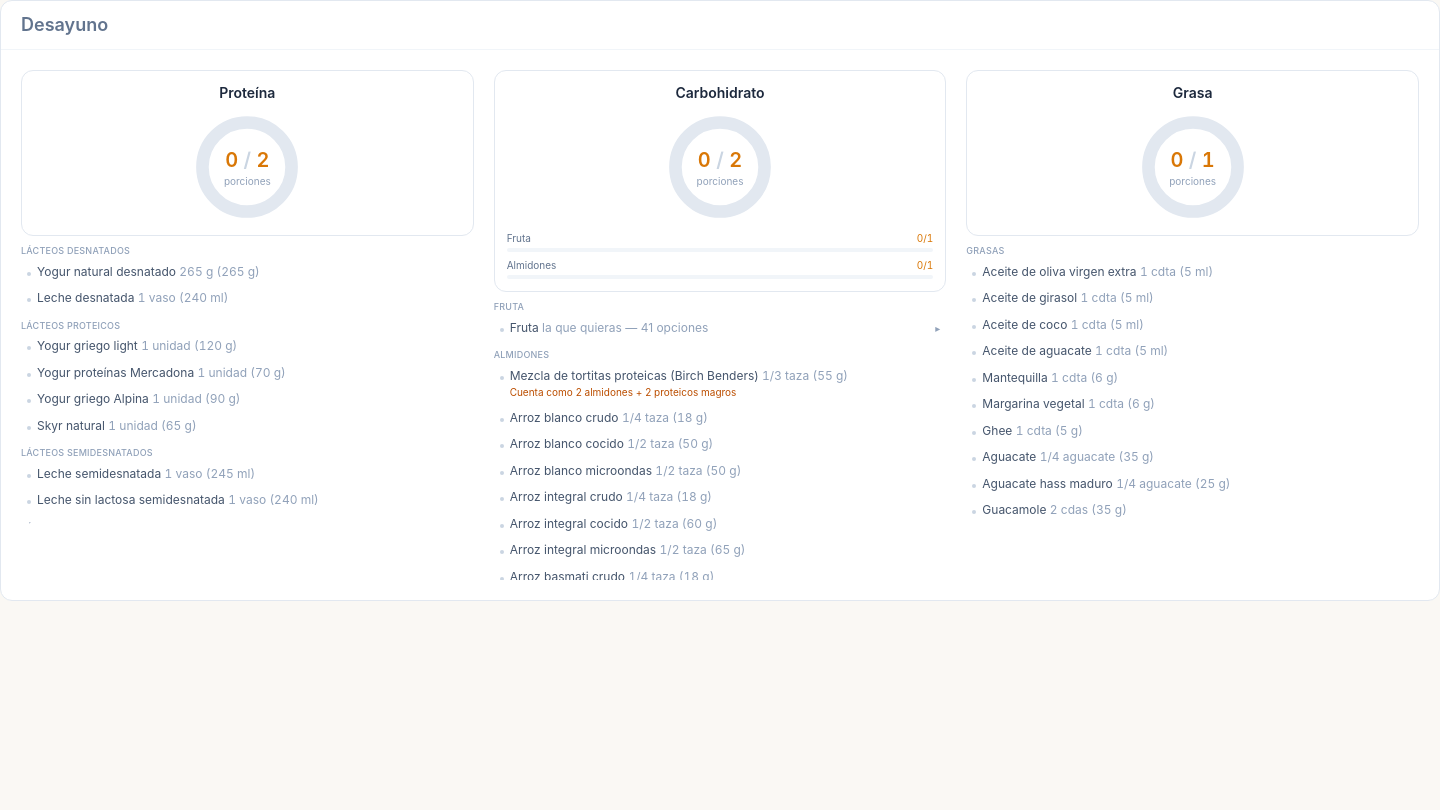
Test case: La fruta se ofrece en general › el cliente ve "Fruta" y al pulsar puede buscar cuál
Click the button "Fruta la que quieras — 41 opciones ▸" at coordinates (625, 327), box x1=494 y1=316 x2=946 y2=340
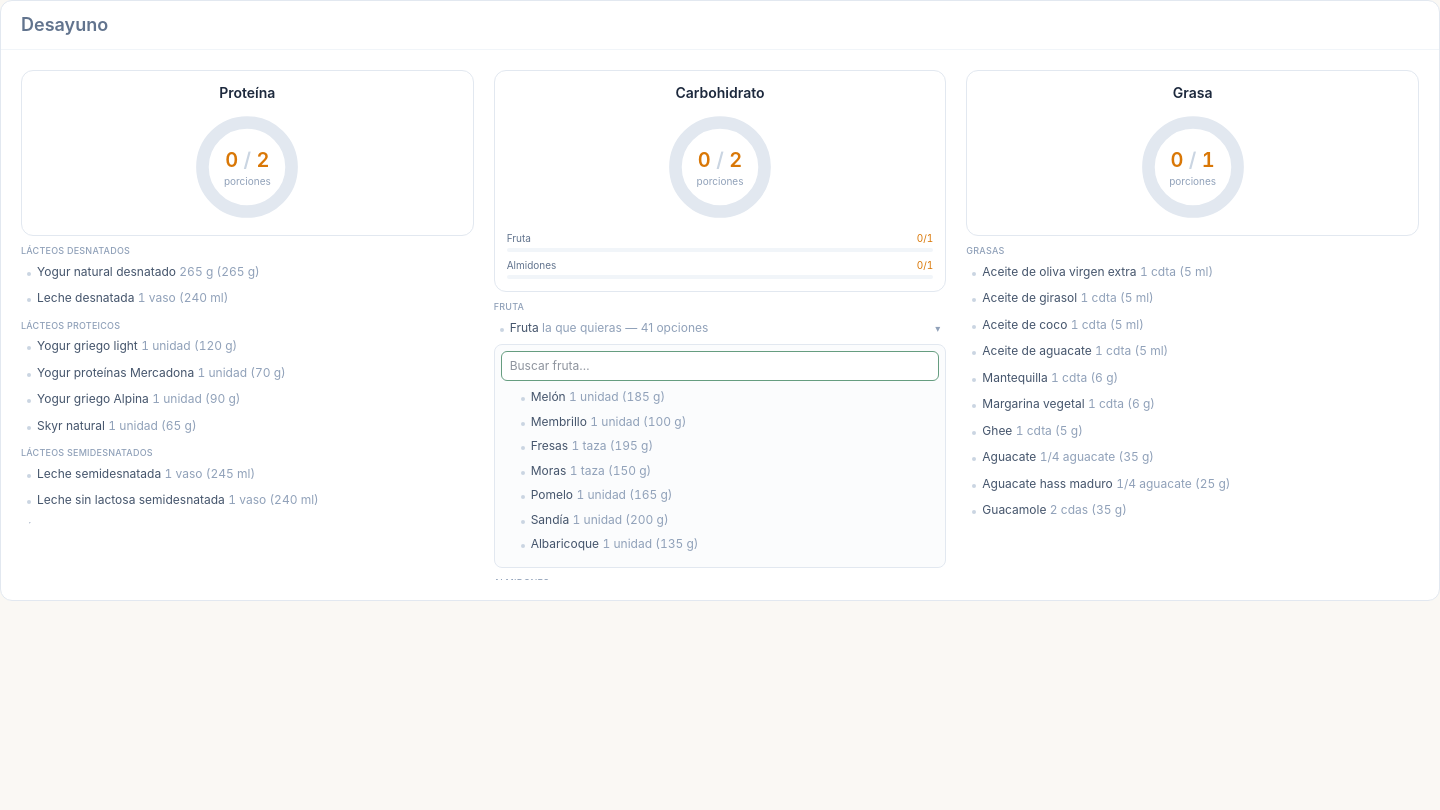
Type "platano" into the field with placeholder "Buscar fruta…" at coordinates (720, 366), box x1=501 y1=351 x2=939 y2=381
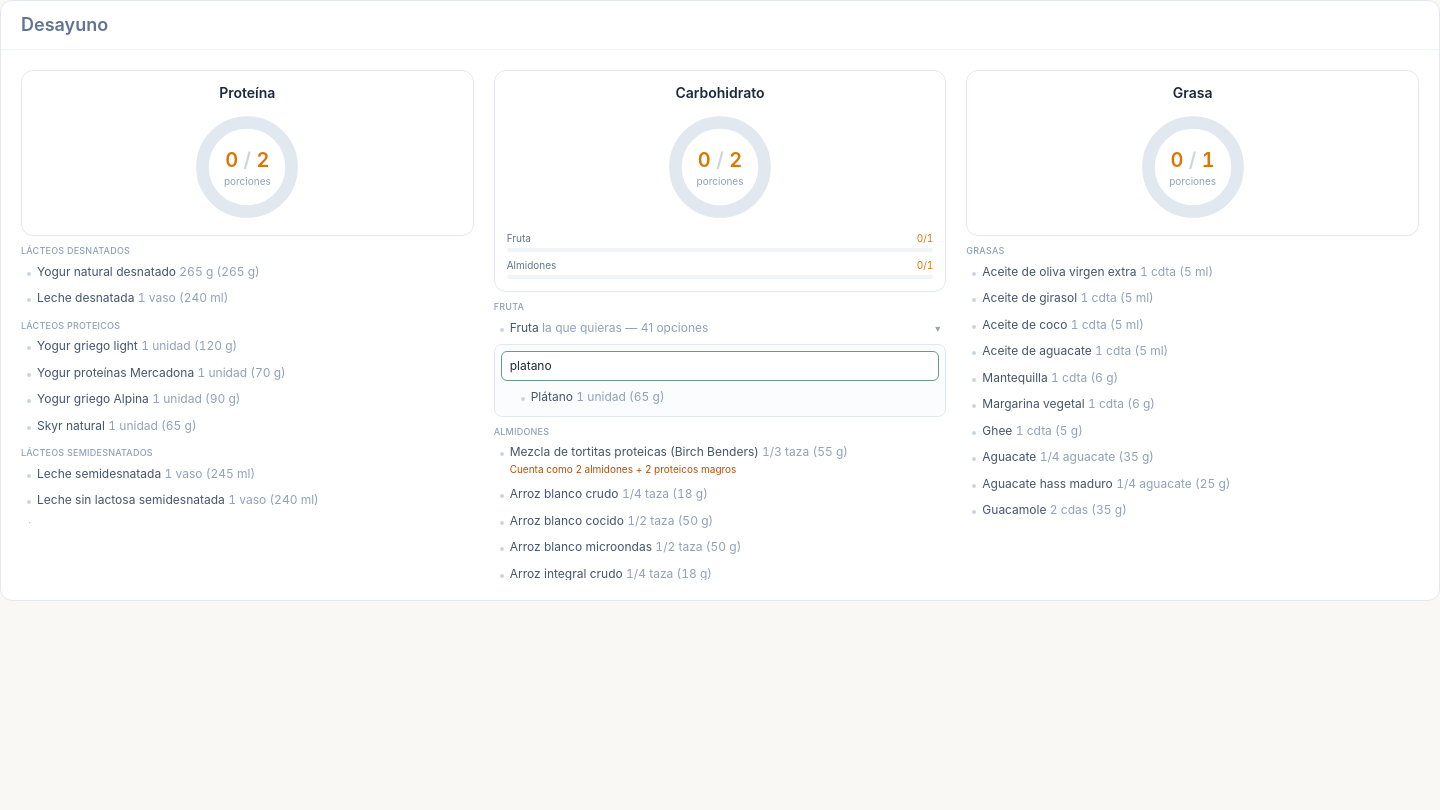
Expected: the text "Plátano" is shown, x1=531 y1=389 x2=573 y2=404
